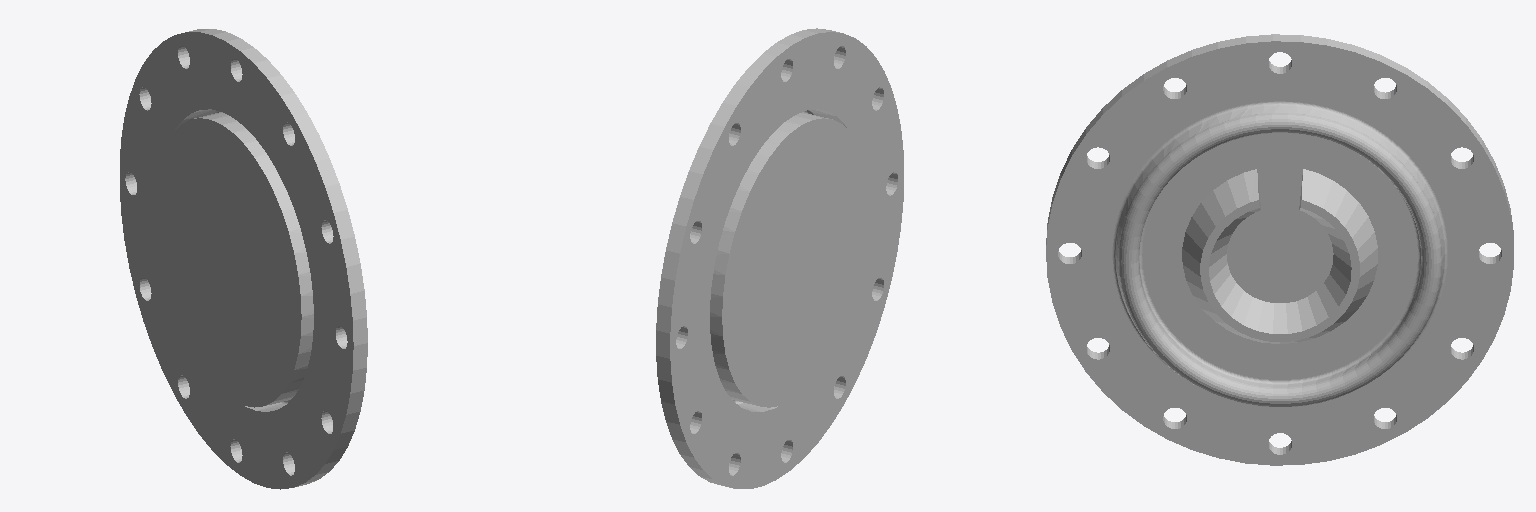
Rendered from МАСТ.2211.003 Манжета.obj.
The picture shows the model from 3 angles: view 1: azimuth 30°, elevation 25°; view 2: azimuth 150°, elevation 25°; view 3: azimuth 270°, elevation 25°; orthographic projection.
Parts seen in each view (by area): view 1: Mtl; view 2: Mtl; view 3: Mtl.
Boxes of the visible parts, <box> form: Mtl: <box>120,29,367,489</box>; Mtl: <box>656,28,903,488</box>; Mtl: <box>1046,34,1513,465</box>.
Size of the model in its own units: 0.0095 by 0.068 by 0.0679.